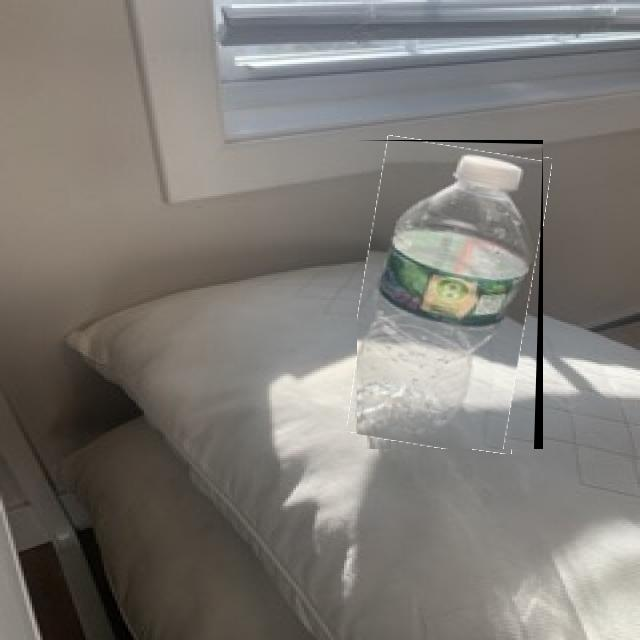water_bottle: (357, 140, 543, 449)
